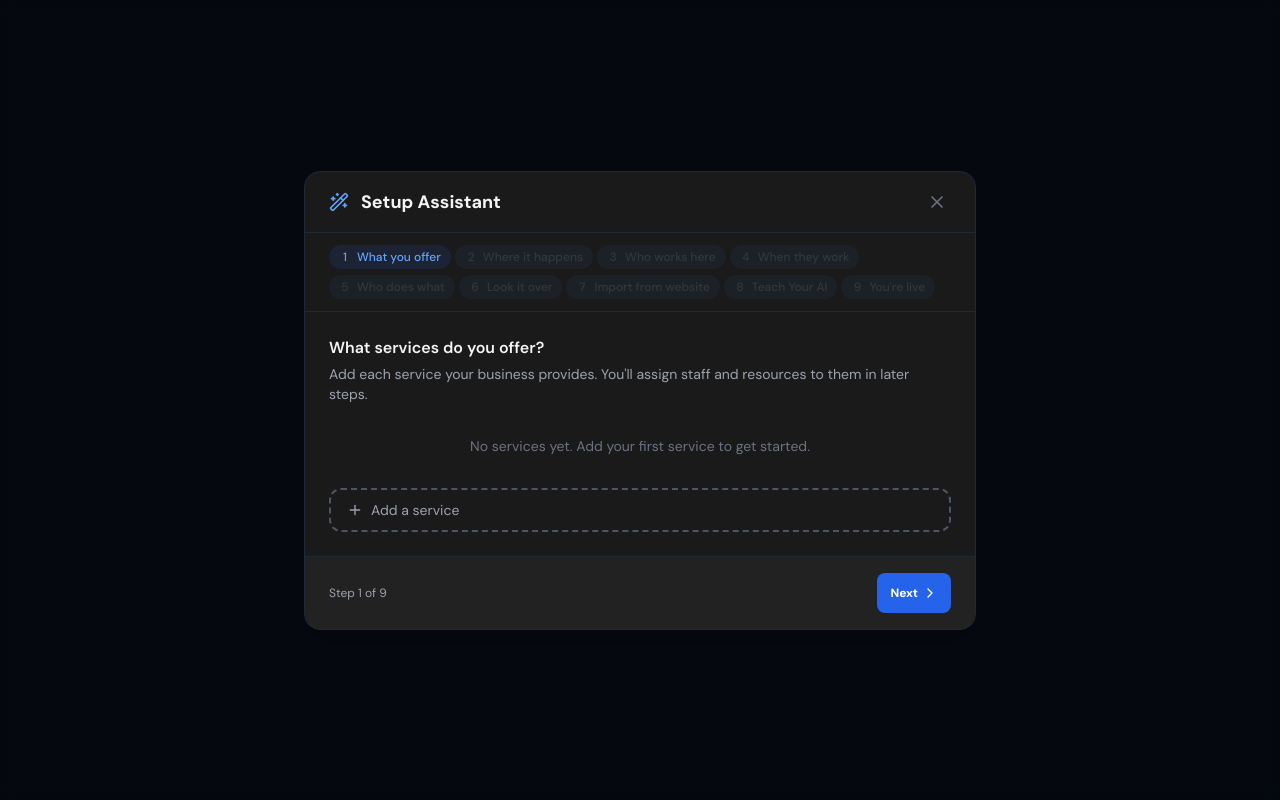
it: SetupWizard: Navigation › navigates back to step 1 from step 2
The image size is (1280, 800).
Click the button "Add a service" at (415, 510), box [329, 488, 951, 532]
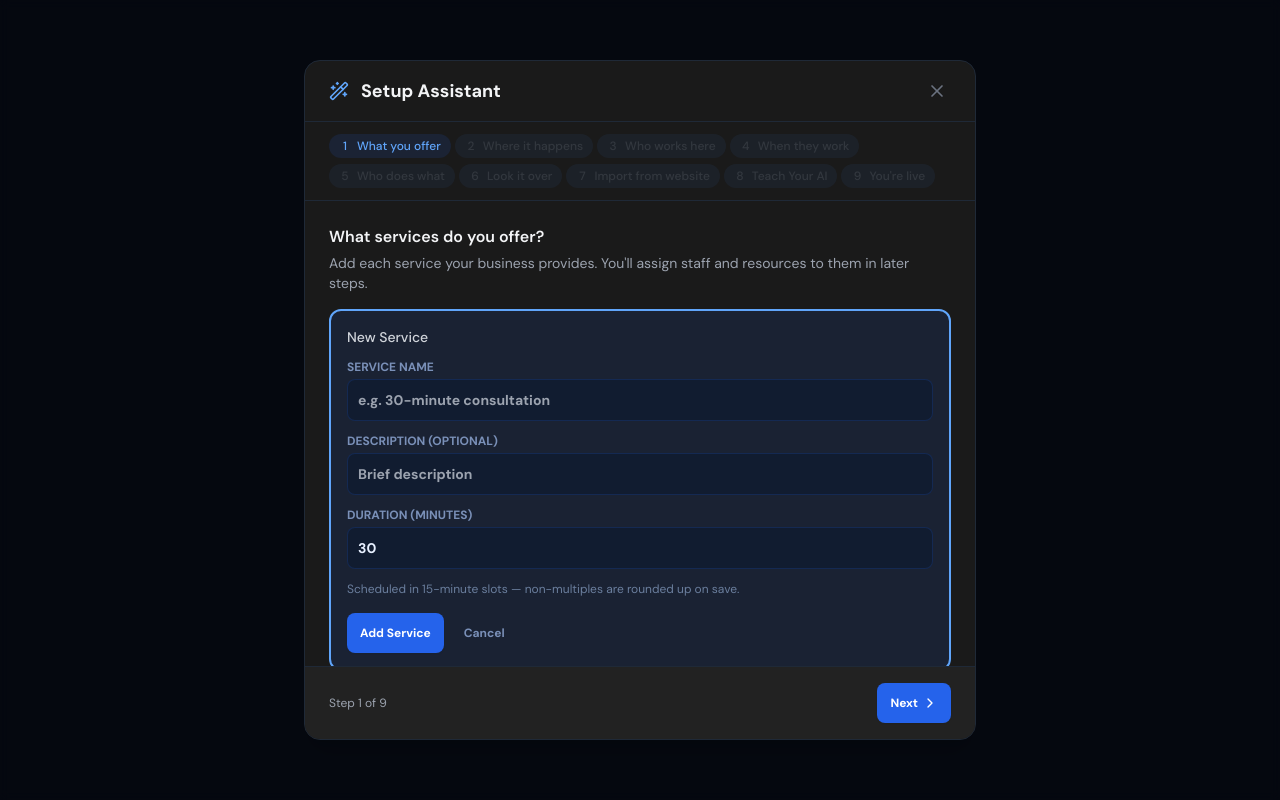
Type "Oil Change" into the field labelled "Service Name" at (640, 400), box [347, 379, 933, 421]
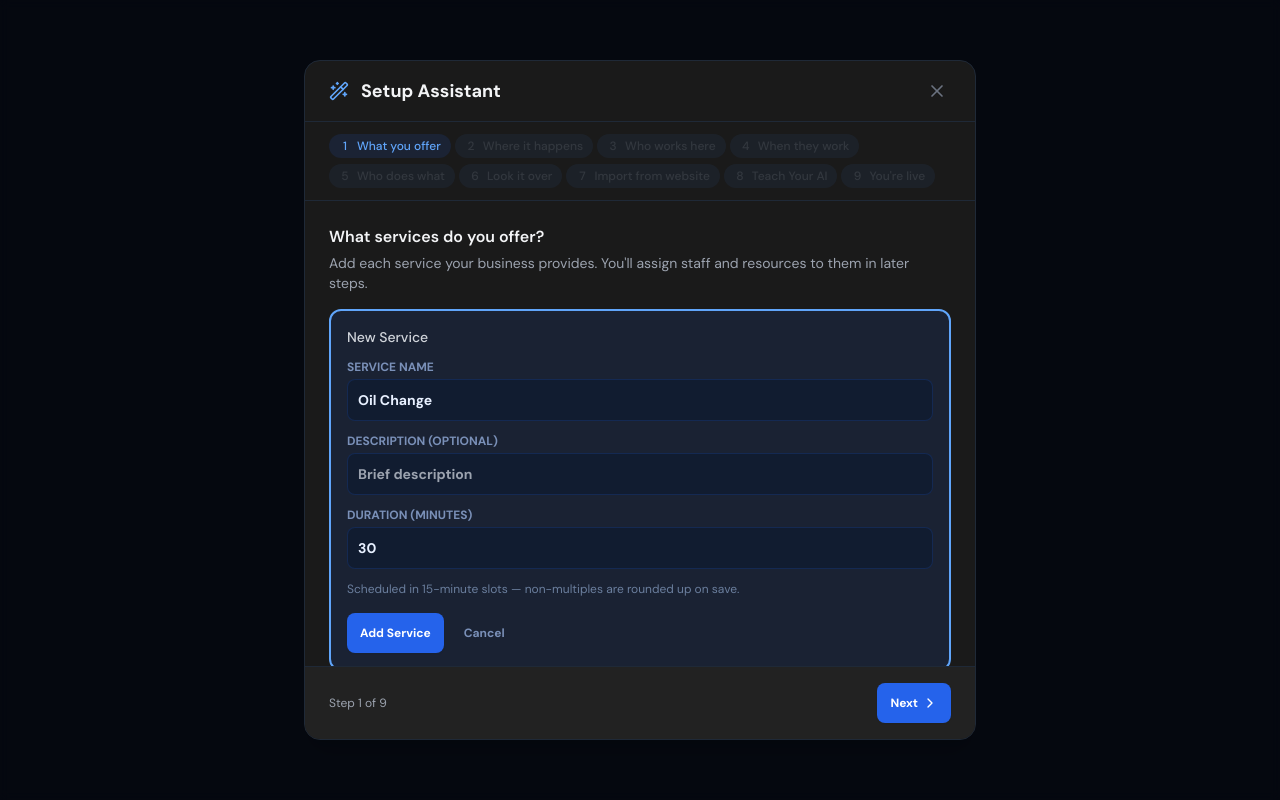
Click the button "Add Service" at (395, 633), box [347, 613, 444, 653]
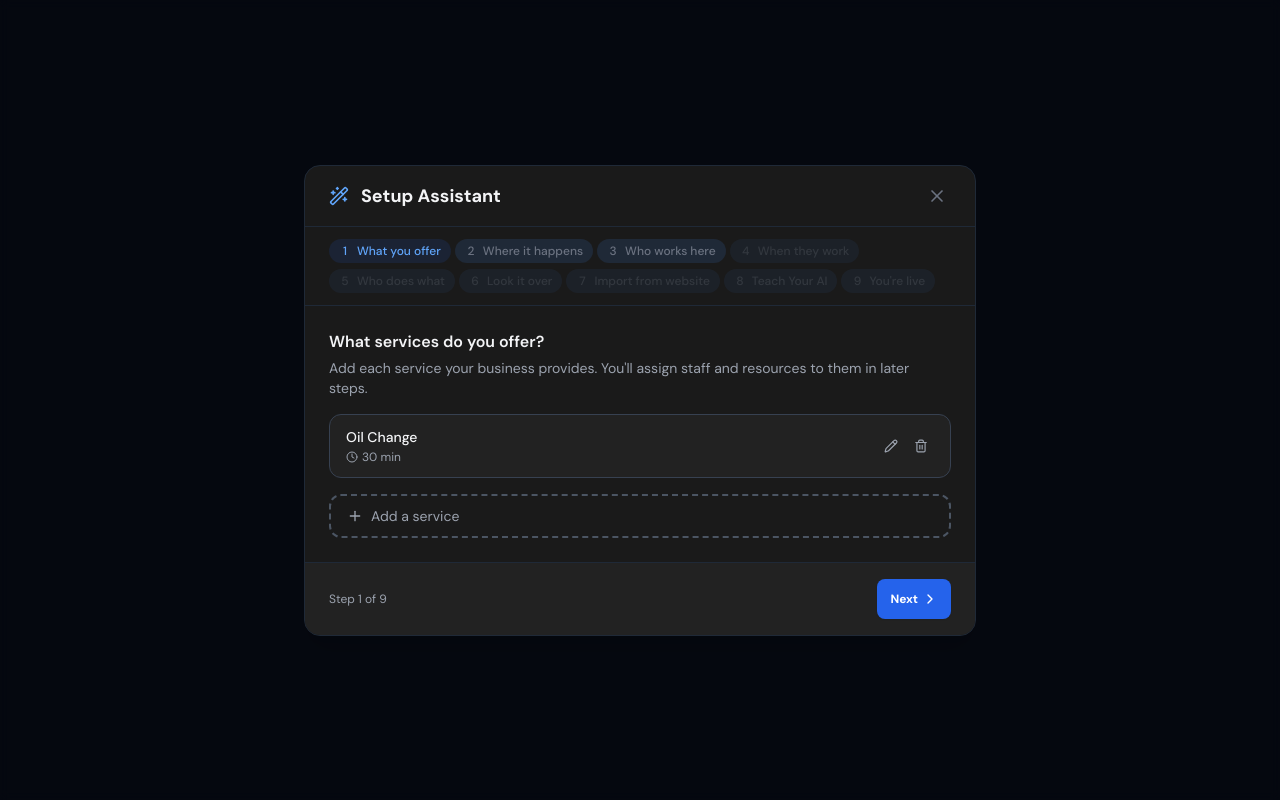
Click the button "Next" at (914, 598), box [877, 578, 951, 618]
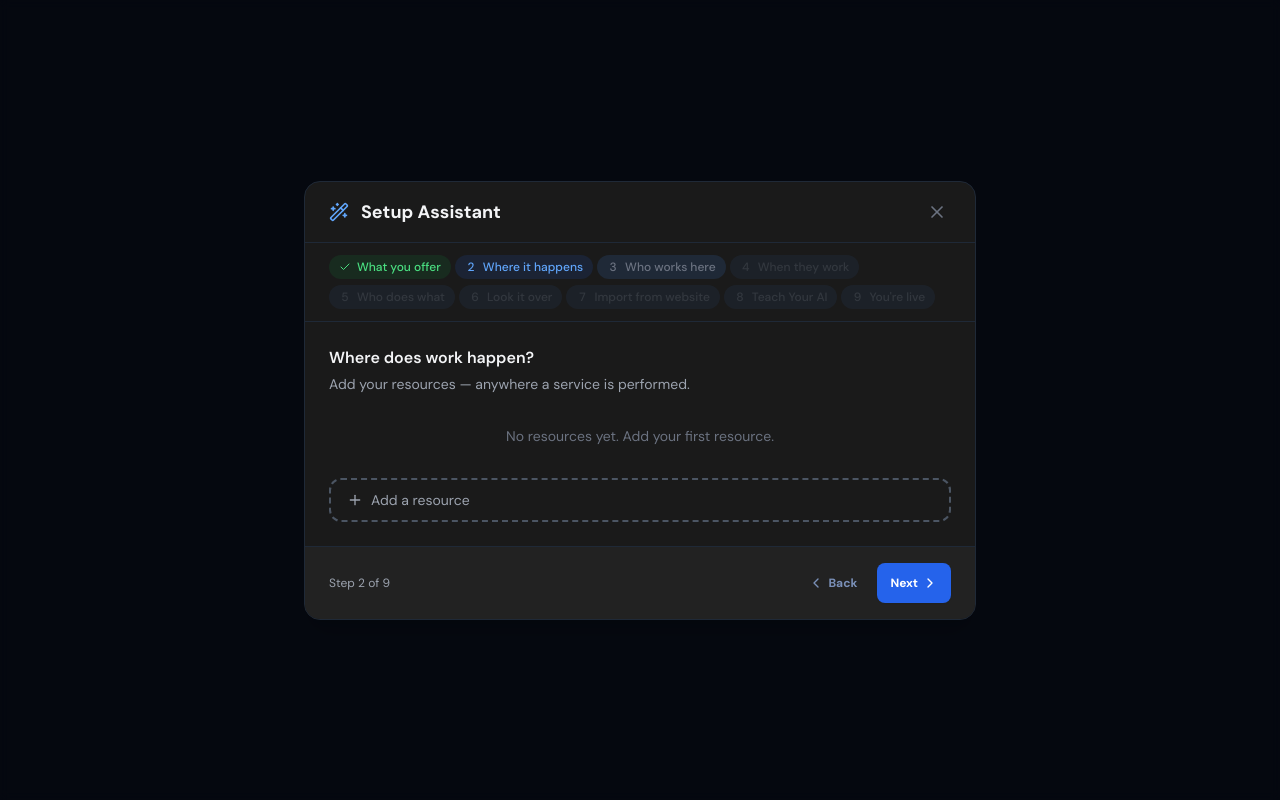
Click the button "Back" at (833, 582), box [796, 562, 869, 602]
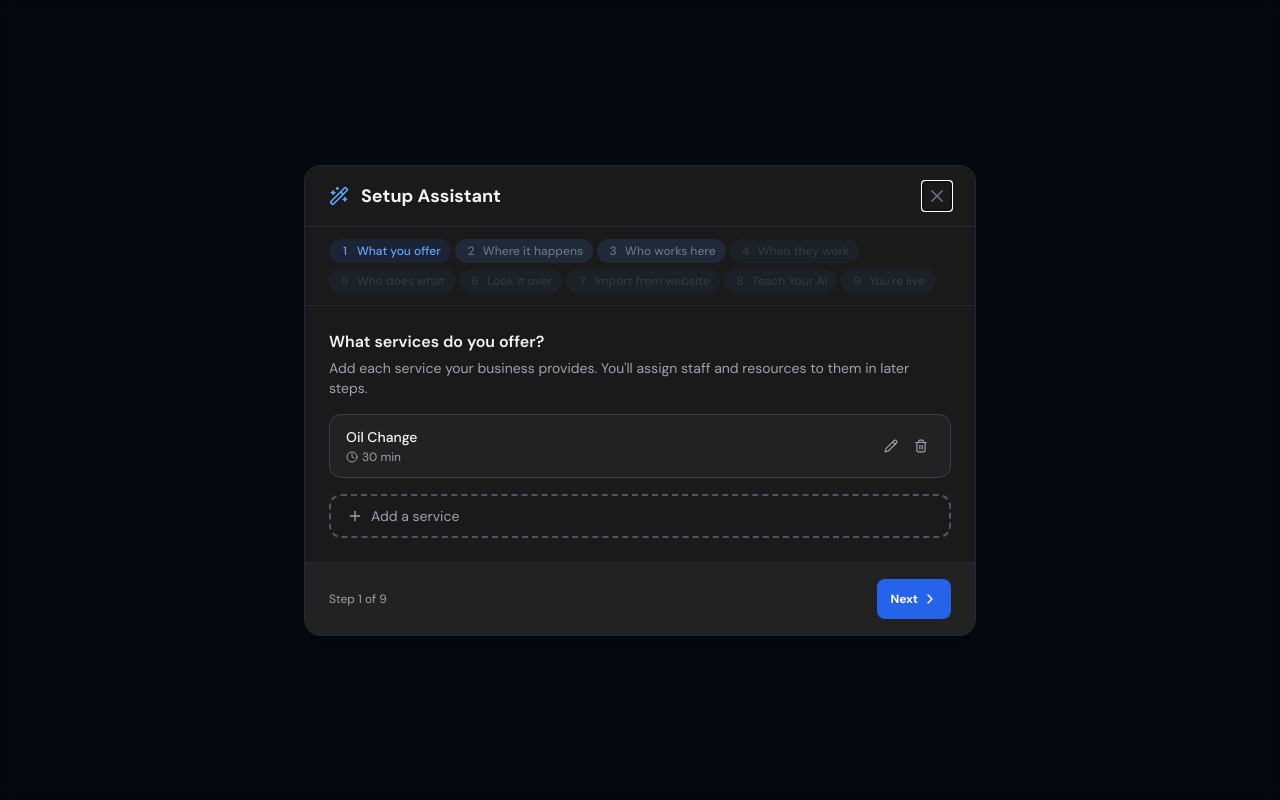
Result: the text "Step 1 of 9" is shown at [329, 590, 387, 606]
Result: the heading "What services do you offer?" is shown at [329, 330, 544, 352]
